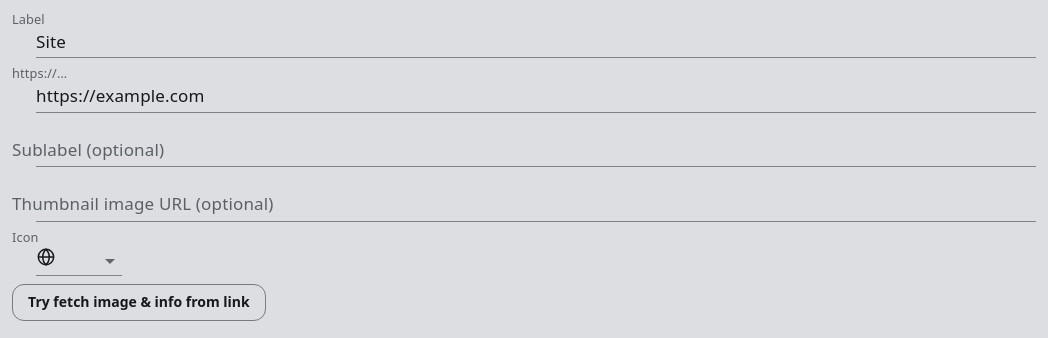
Test case: WidgetEditor › reports unfurl failures and recovers the fetch button
The width and height of the screenshot is (1048, 338).
Click the button "Try fetch image & info from link" at (139, 302), box 12,284 -> 266,321
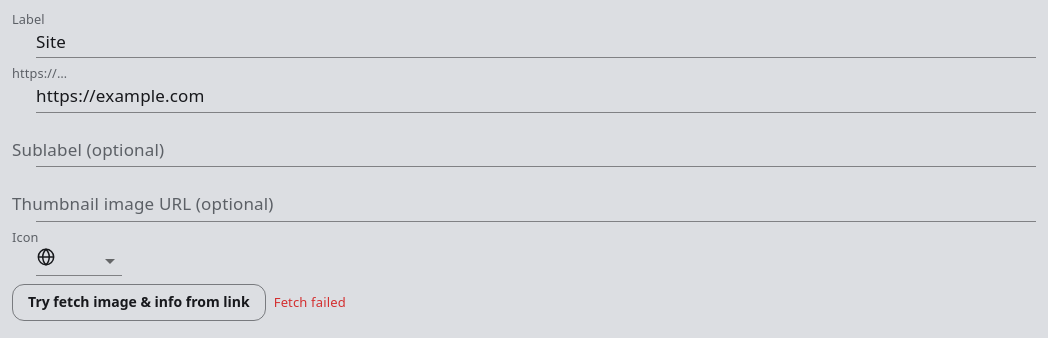
Expected: the text "Fetch failed" is shown, 274,293 -> 346,312
